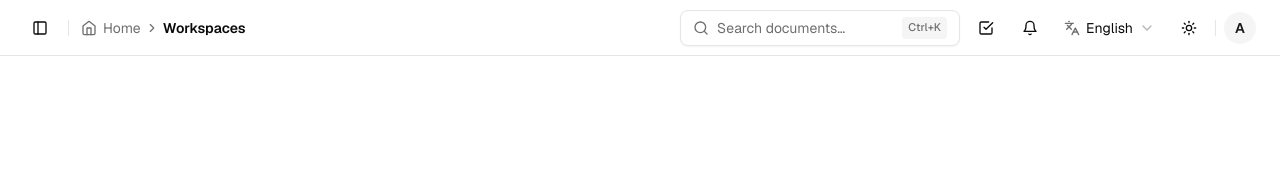
Test case: AppTopbar search › opens the recent-searches dropdown on focus and closes it on Escape
Click the dropdown labelled "Search documents…".
click(806, 28)  # box [717,18,894,38]
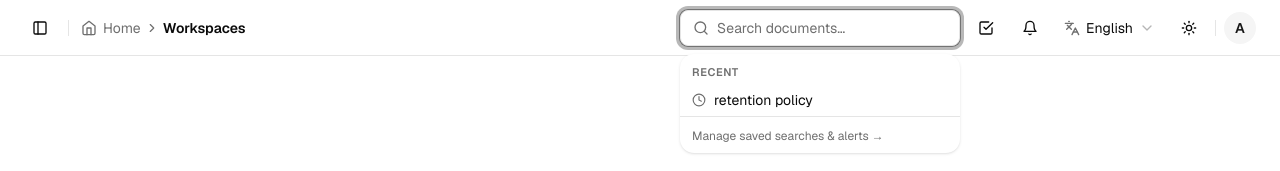
Expected: the element with test id "search-dropdown" shows "retention policy", [686,84,886,116]
Press Escape
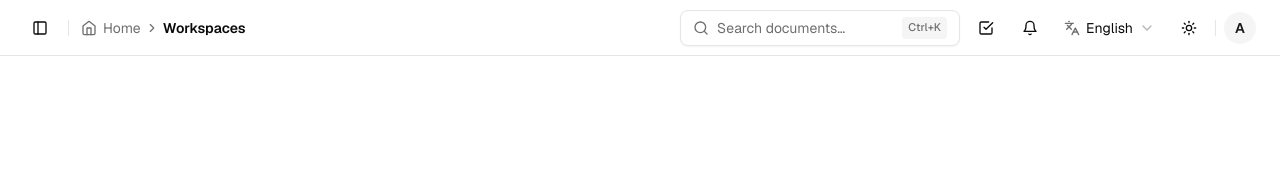
Expected: the element with test id "search-dropdown" is gone
